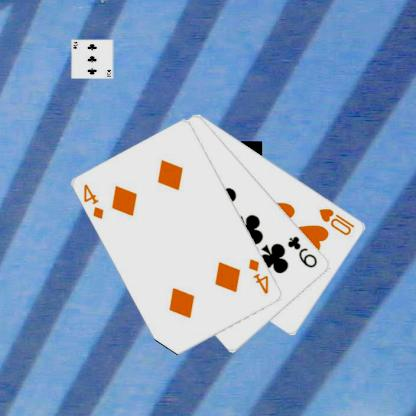10H: (316, 205, 356, 237)
4D: (81, 181, 106, 221), (246, 256, 270, 295)
9C: (285, 234, 319, 270)
